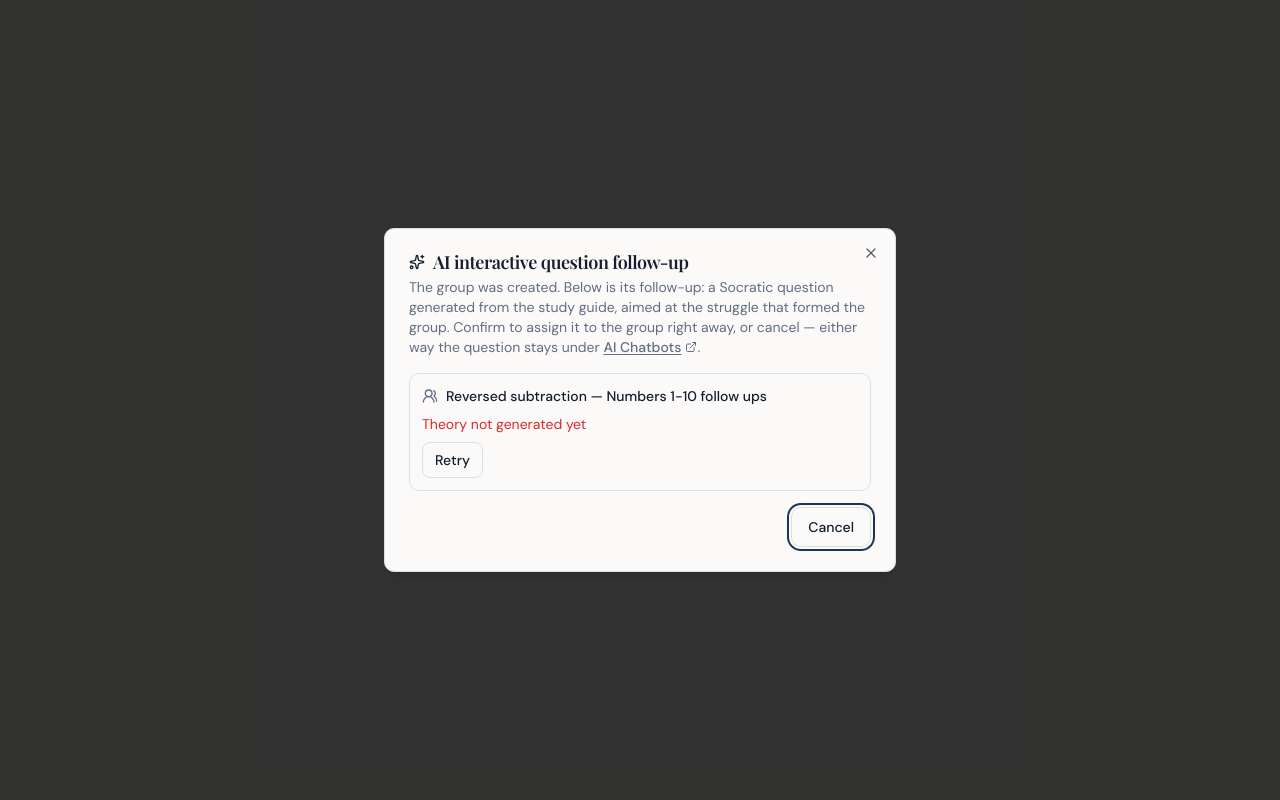
Test case: ClusterFollowupQuestionsDialog › shows the failure and offers a retry when generation fails
The image size is (1280, 800).
Expected: the text "Theory not generated yet" is shown, left=422, top=415, right=586, bottom=433
Click the button "Retry" at (452, 460), box left=422, top=442, right=483, bottom=478
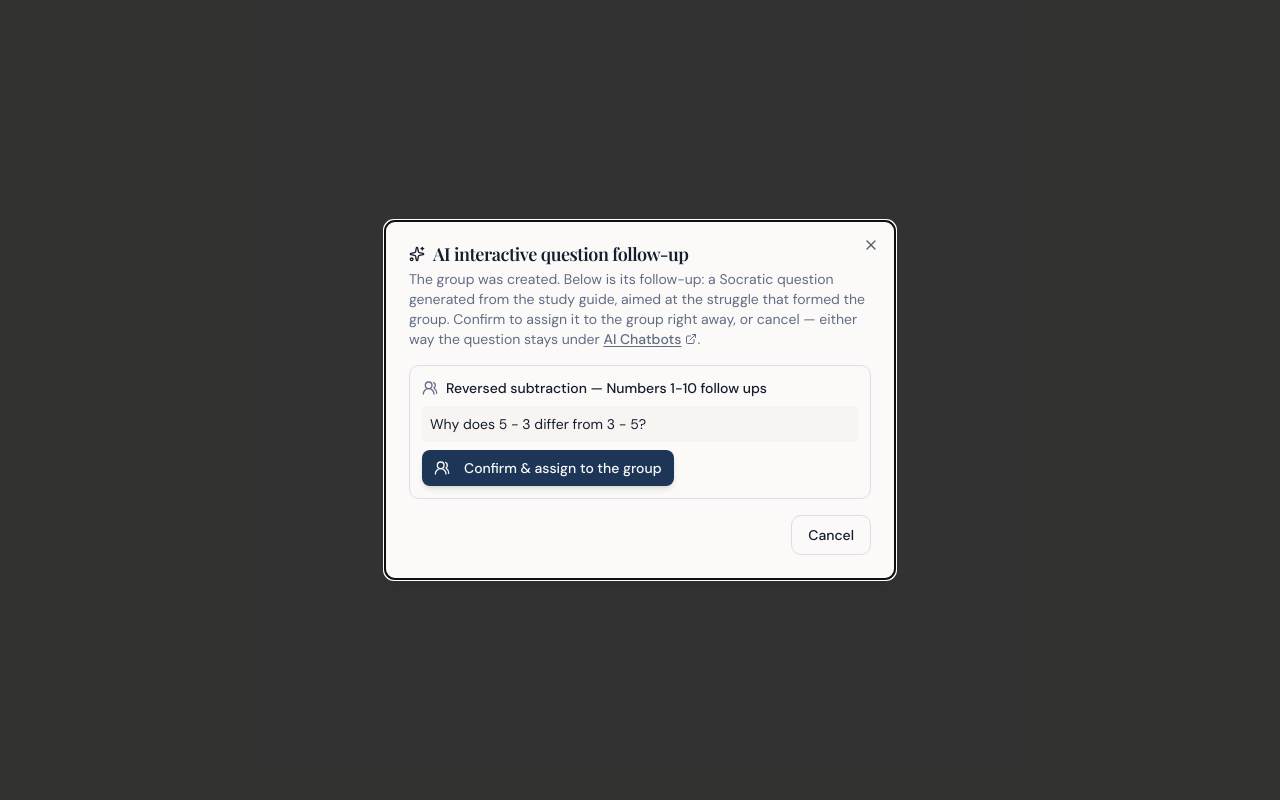
Expected: the text "Why does 5 − 3 differ from 3 − 5?" is shown, left=422, top=406, right=858, bottom=442
